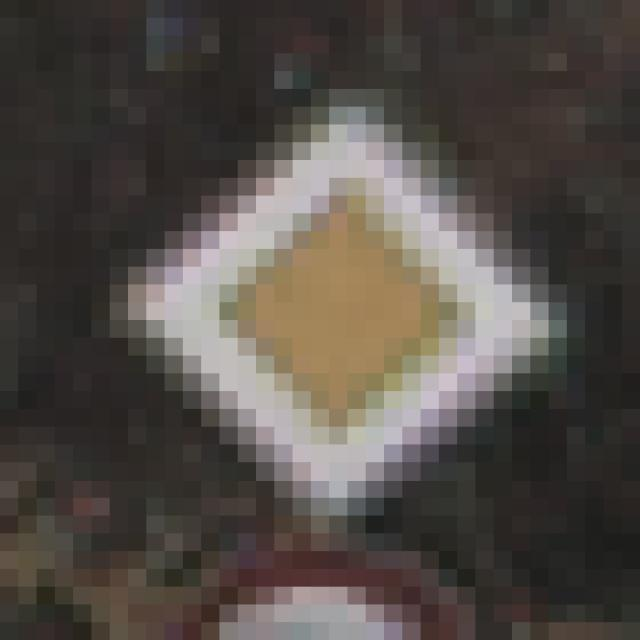Main Road: (93, 90, 532, 534)
